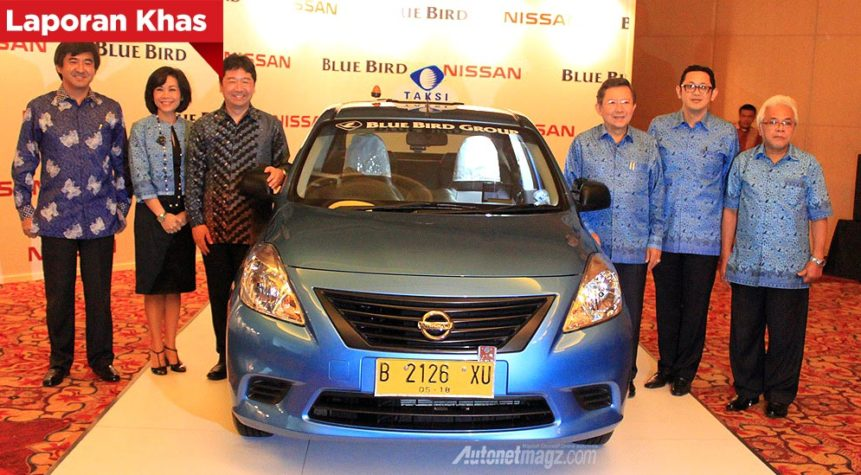plate: (376, 358, 490, 397)
